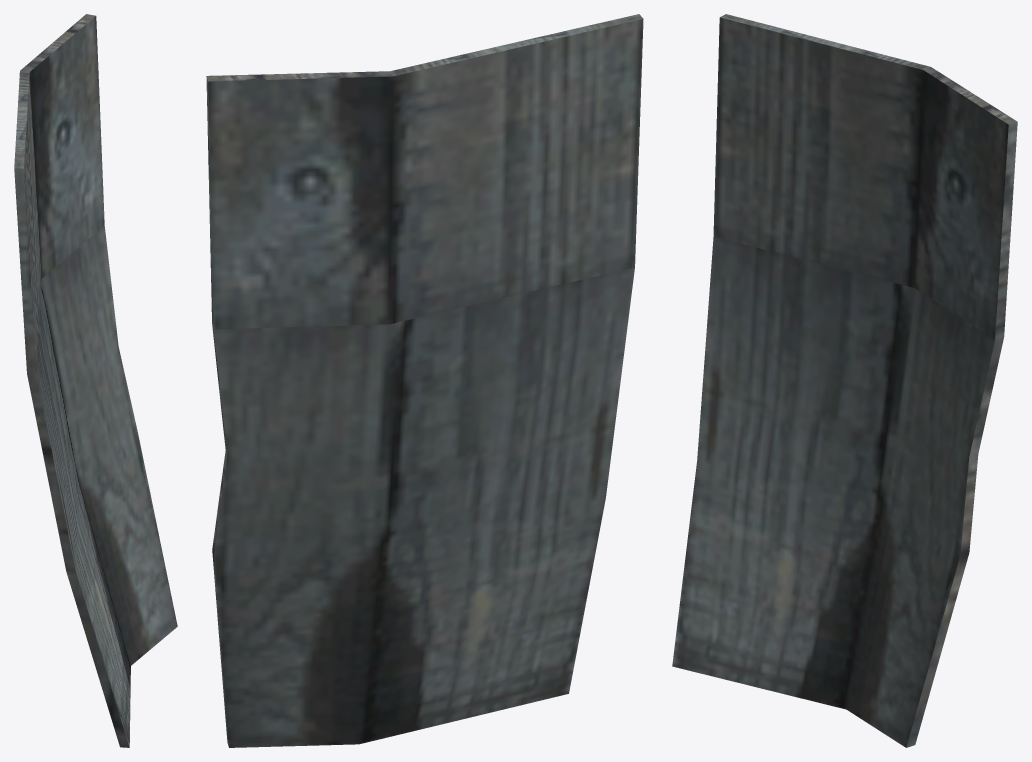
The model's file is flower_barrel_p6.glb.
The picture shows the model from 3 angles, left to right: view 1: azimuth 30°, elevation 25°; view 2: azimuth 150°, elevation 25°; view 3: azimuth 270°, elevation 25°; orthographic projection. The views are drawn at different scales.
Visible parts, largest first — view 1: flower_barrel_p6; view 2: flower_barrel_p6; view 3: flower_barrel_p6.
Boxes of the visible parts, x1=… form: flower_barrel_p6: x1=14, y1=14, x2=177, y2=747; flower_barrel_p6: x1=206, y1=14, x2=643, y2=747; flower_barrel_p6: x1=672, y1=14, x2=1017, y2=747.
Bounding box in the file's own units: 0.1971 × 0.439 × 0.2265.
Materials: 1 (1 with a texture image).
